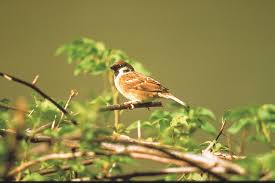hsparrow: (102, 58, 190, 108)
